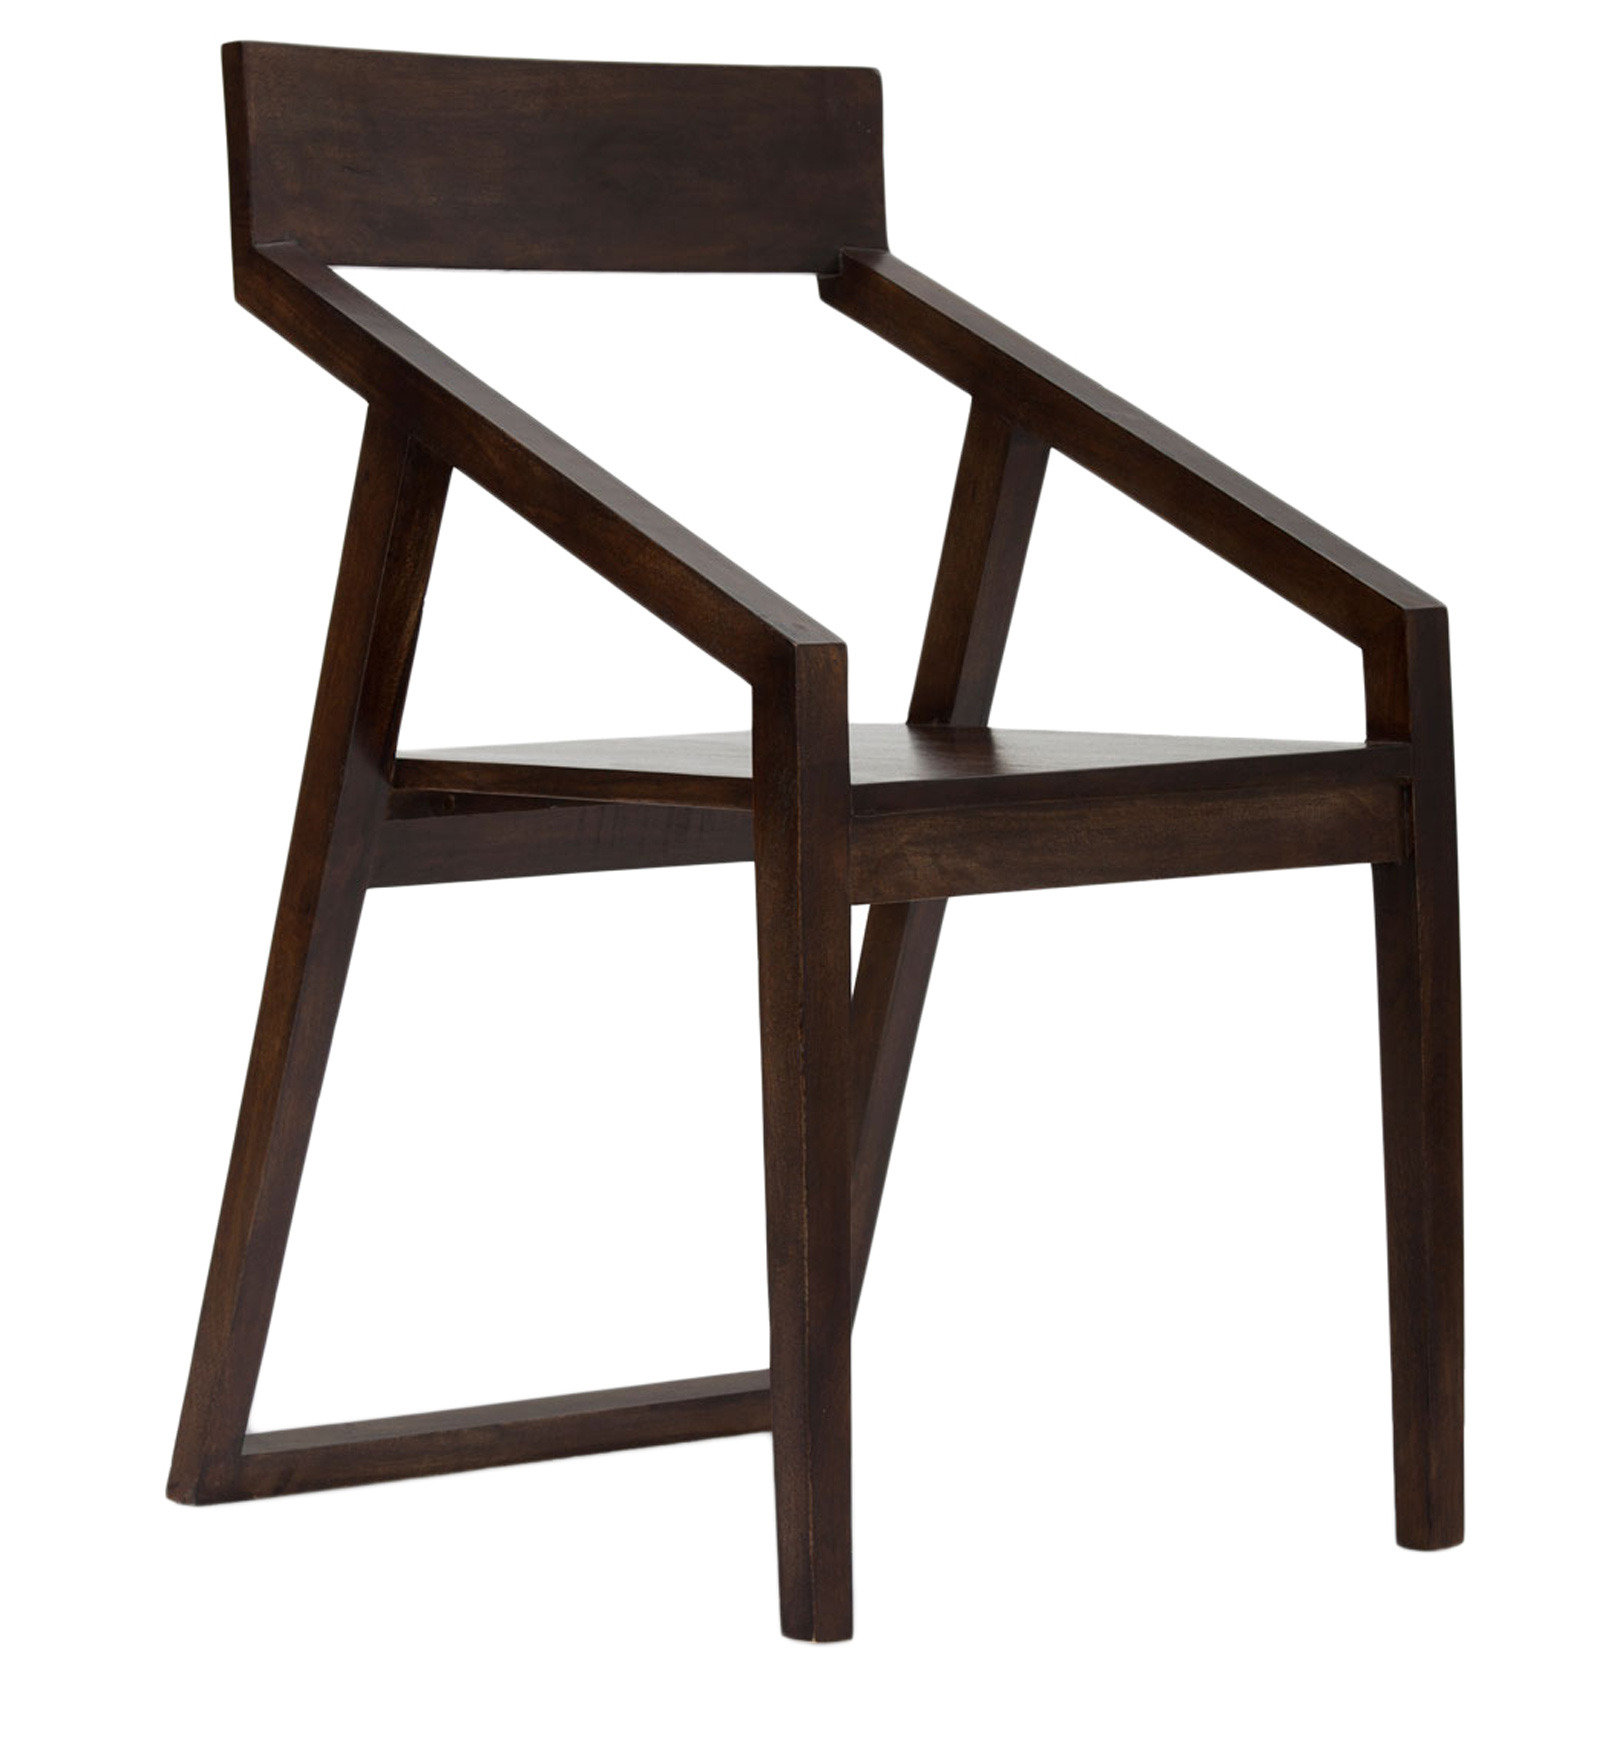Dulwich Solid Wood Arm Chair in Provincial Teak Finish by TheArmchair: (152, 20, 1520, 1685)
